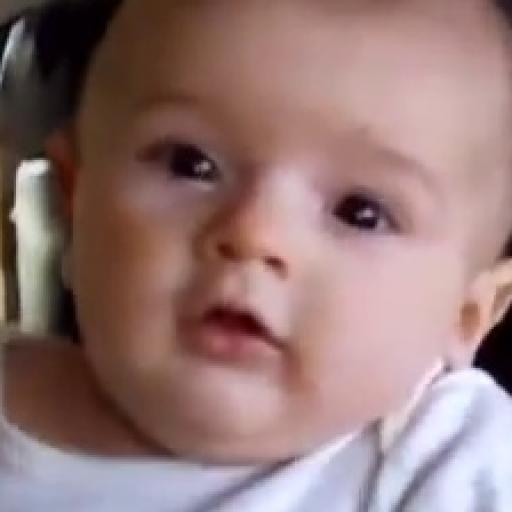Autism: (64, 22, 512, 485)
